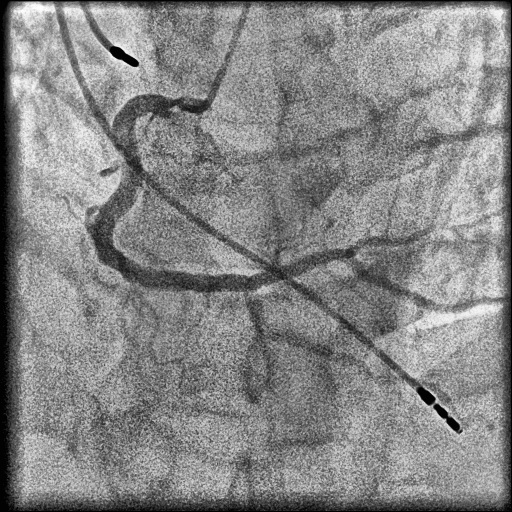pborca: (244, 225, 452, 289)
pda: (243, 290, 402, 389)
rca: (91, 94, 257, 292)
